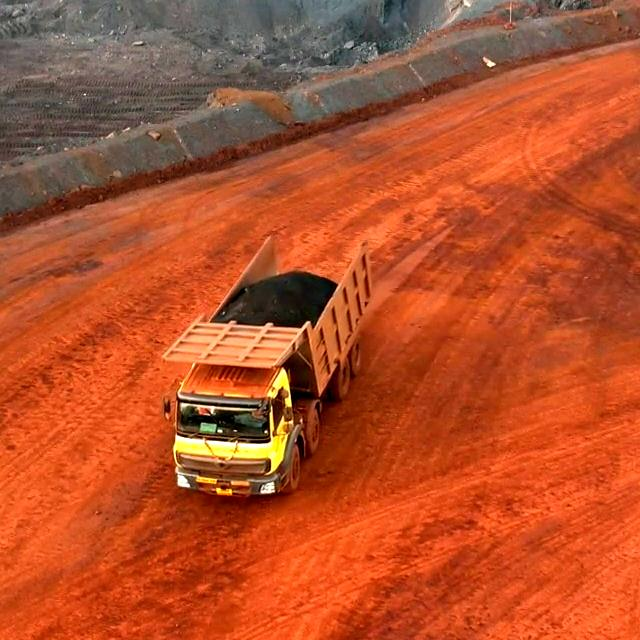Dumper truck: (161, 322, 305, 504)
